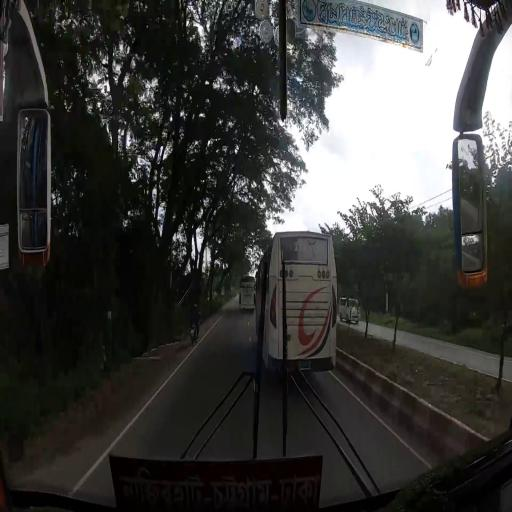bus: (255, 230, 337, 376)
motorbike: (190, 304, 201, 345)
van: (340, 297, 361, 325)
